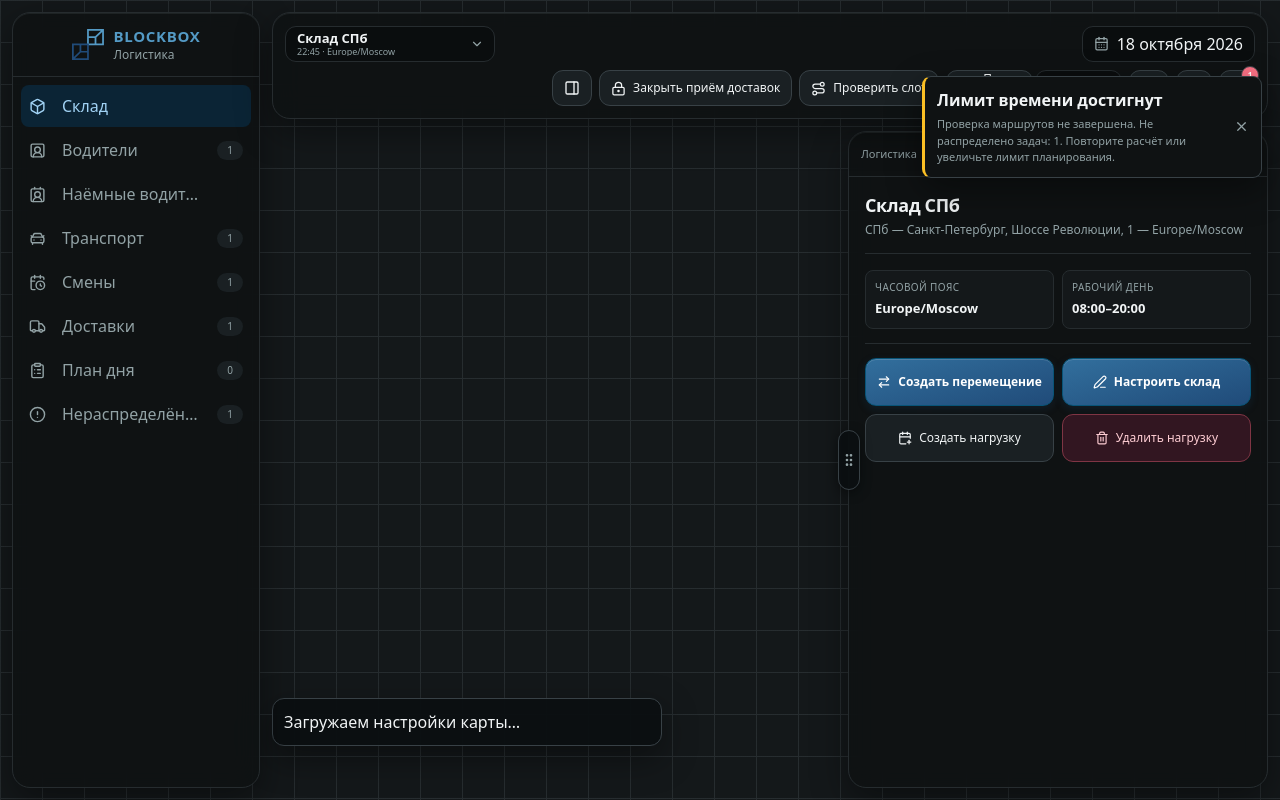
Test: warehouse automatic planning › preserves the selected section and dismissed terminal warning when a terminal run plan is refreshed
Click the button "Создать нагрузку" at (960, 438), box [865, 414, 1054, 462]
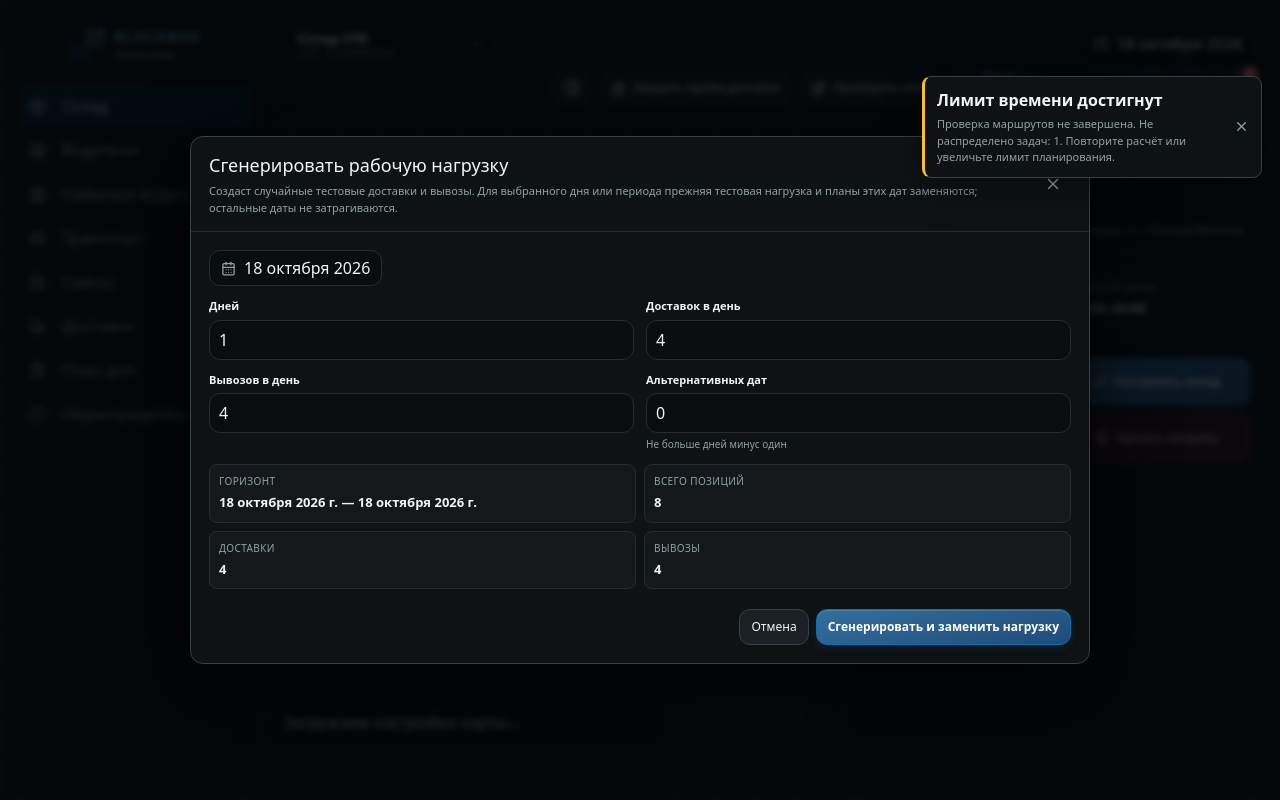
Click the button "Сгенерировать и заменить нагрузку" at (943, 627), box [816, 609, 1071, 645]
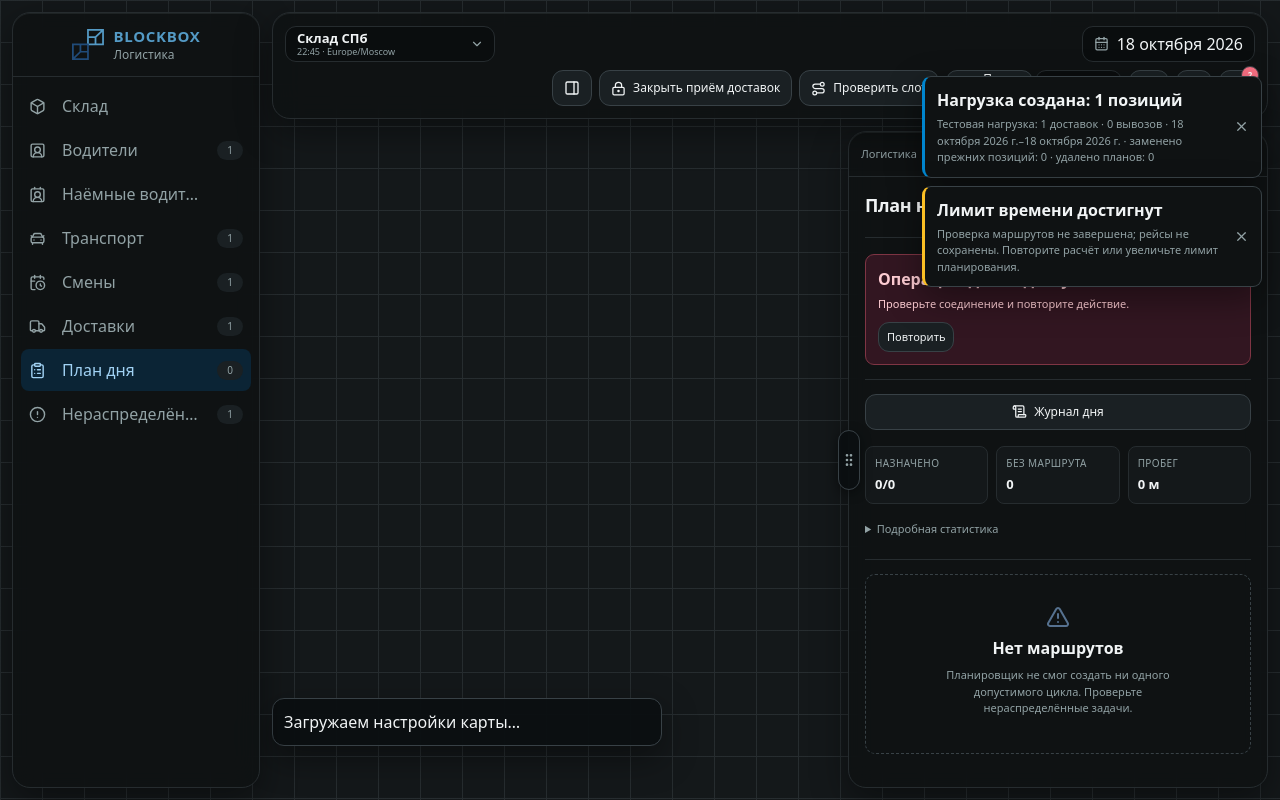
Result: the text "Проверка маршрутов не завершена; рейсы не сохранены" is shown at [937, 226, 1218, 274]
Click the button "Доставки 1" at (136, 326), box [21, 305, 251, 347]
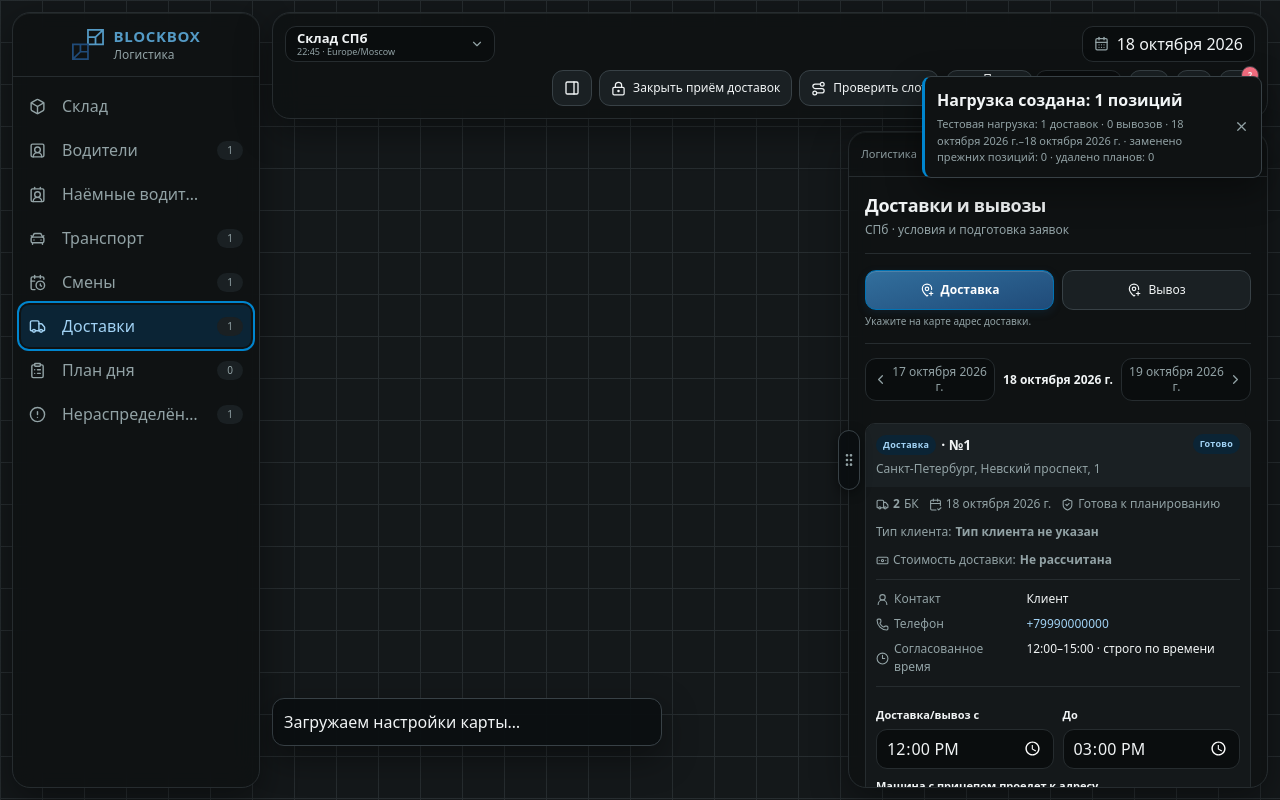
Result: the text "Лимит времени достигнут" is gone
